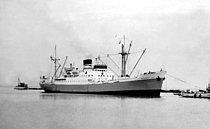Ship: (39, 32, 171, 103)
